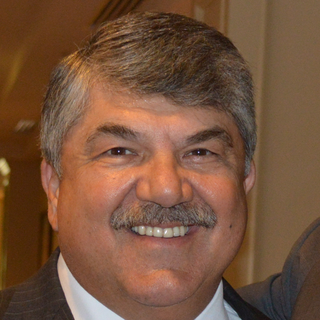eye: (95, 142, 143, 161), (179, 145, 221, 163)
